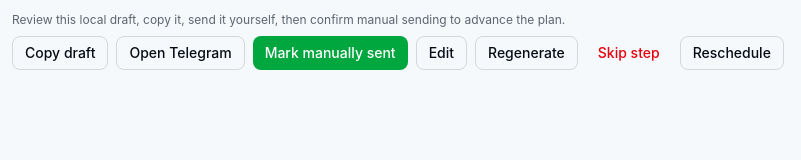
Test: StepReviewActions › records copying a draft without marking the draft sent
Step 1. Click the button "Copy draft" → x=60, y=53, box [12,36,108,70]
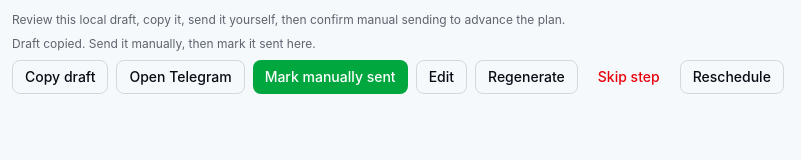
Check: the text "Draft copied. Send it manually, then mark it sent here." is shown, box [12,36,316,51]
